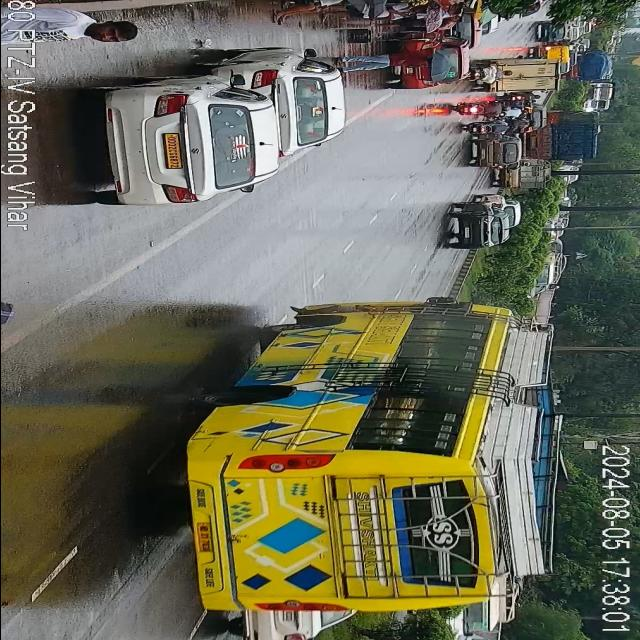2-wheelers: (460, 120, 519, 138), (452, 102, 510, 116), (466, 64, 511, 82)
auto: (538, 46, 569, 64)
bus: (201, 294, 567, 624)
car: (96, 72, 277, 208), (225, 52, 345, 150), (446, 198, 502, 254), (474, 134, 522, 168)
pedestrian: (0, 0, 132, 52), (342, 47, 430, 75), (392, 0, 464, 24)
truck: (534, 114, 593, 170), (485, 58, 545, 96), (566, 51, 616, 82)
